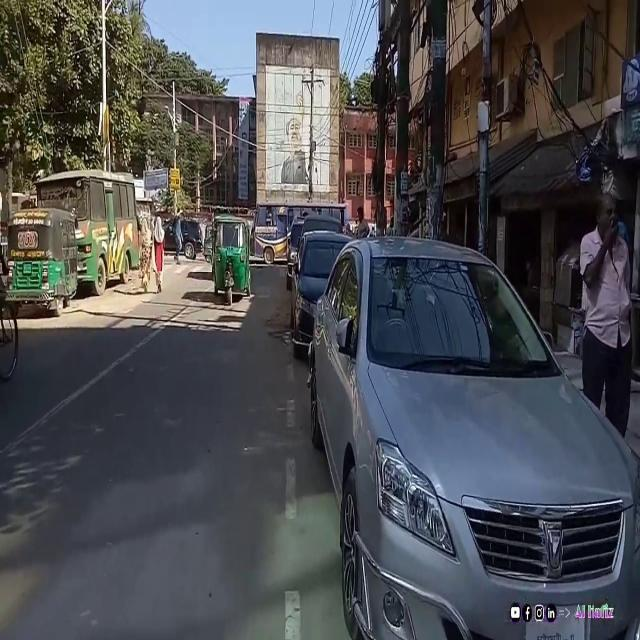black: (296, 240, 350, 347), (161, 218, 201, 260)
silver: (312, 246, 640, 639)
